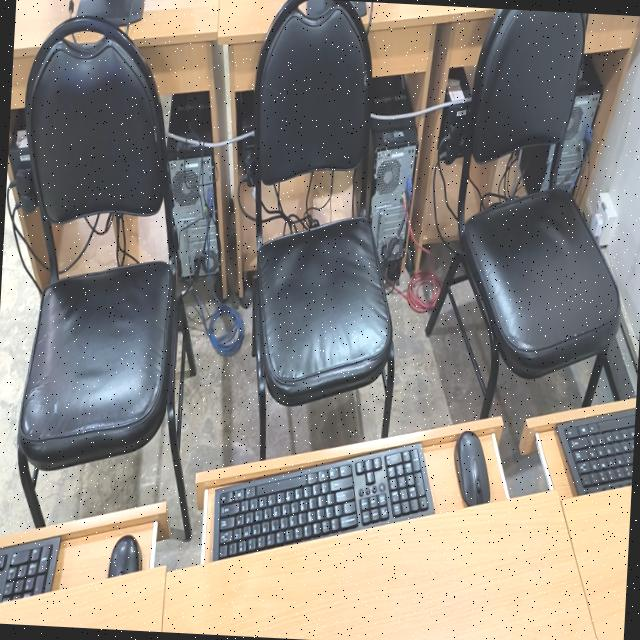Chair: (13, 15, 189, 532), (426, 9, 621, 419), (253, 216, 394, 459), (253, 0, 372, 235)
Cpu: (167, 144, 220, 280), (370, 144, 417, 268), (557, 93, 600, 191), (170, 93, 209, 136), (542, 146, 554, 189)
Keyboard: (214, 443, 433, 559), (554, 407, 636, 495), (0, 539, 59, 602)
Monitor: (77, 0, 145, 27)
Mouse: (455, 431, 490, 506), (108, 535, 142, 578)
